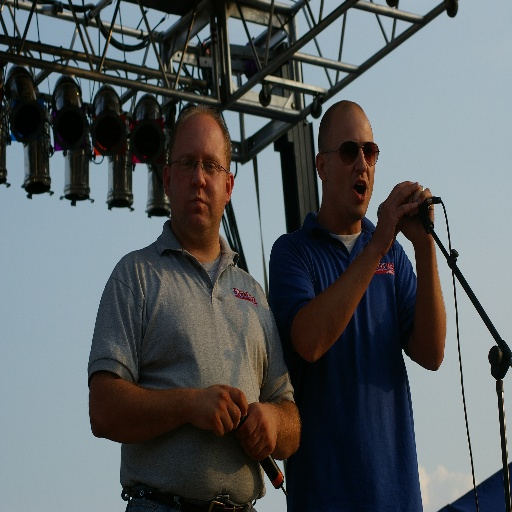hand: (182, 384, 249, 437), (375, 182, 419, 257), (236, 398, 278, 459)
